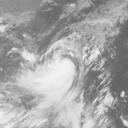cyclone: (31, 56, 76, 98)
